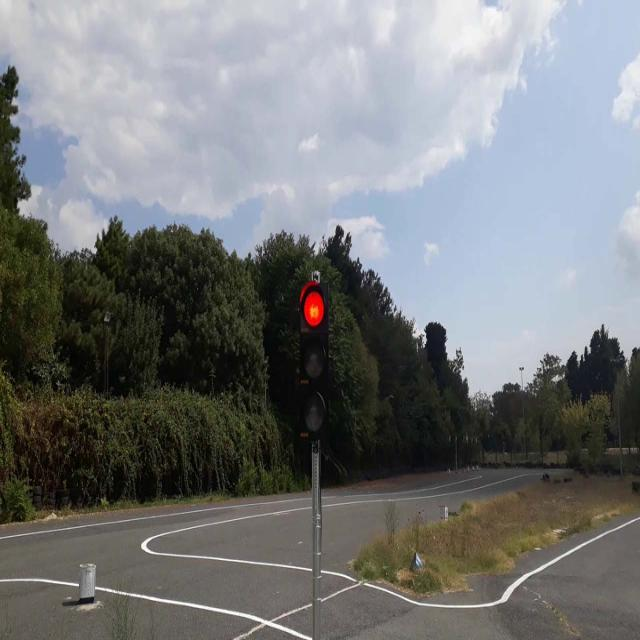kirmizi: (296, 281, 331, 440)
